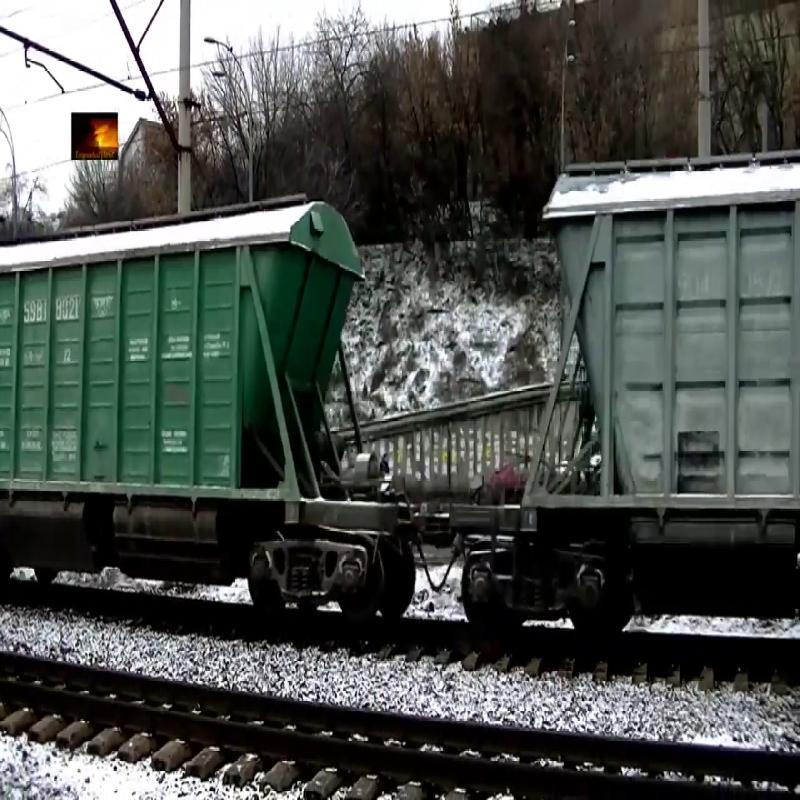train: (2, 186, 368, 556), (520, 142, 800, 563)
